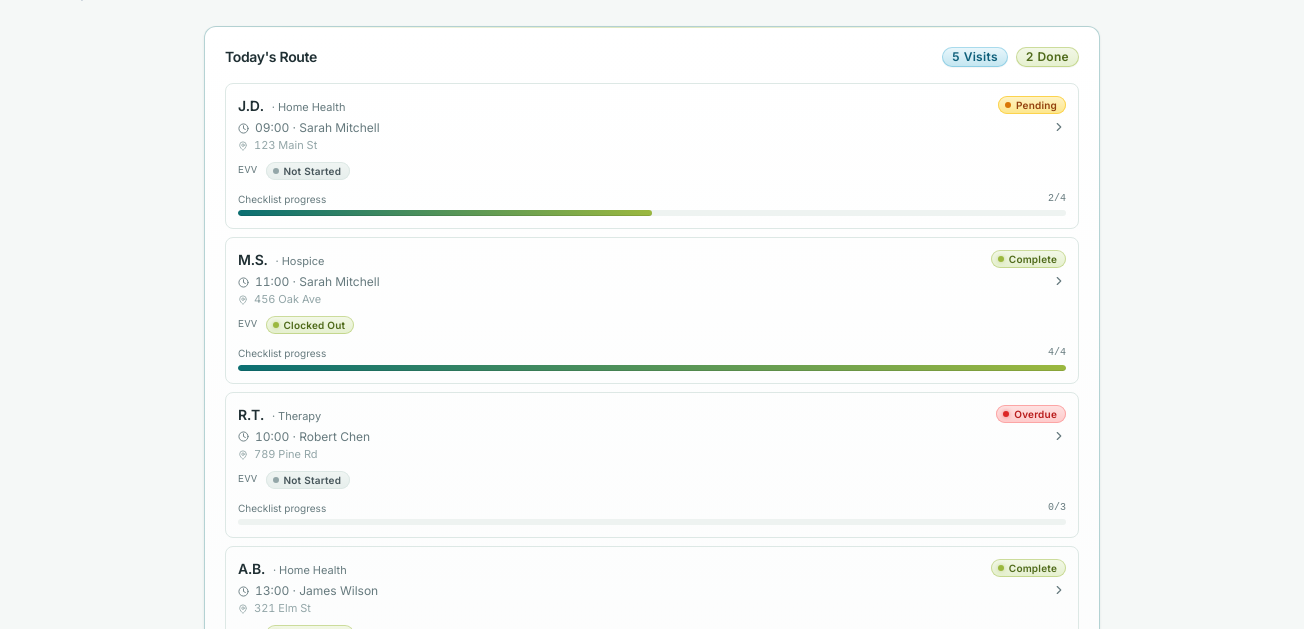
Test case: Fix #3 — Field Assistant EVV validation › allows End Visit (signature modal) once checklist is complete
This screenshot has width=1304, height=629.
Click the text "J.D.": (251, 106) [238,96,264,116]
(page scrolled)
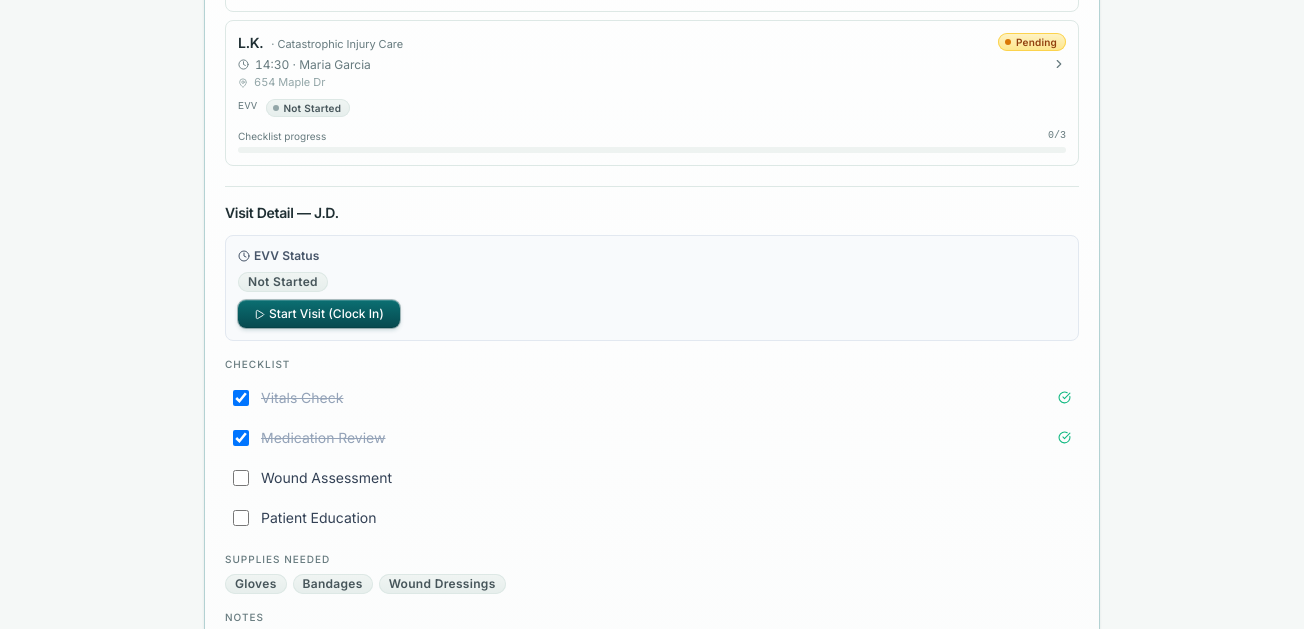
Click the button "Start Visit (Clock In)": (319, 314) [238,300,400,328]
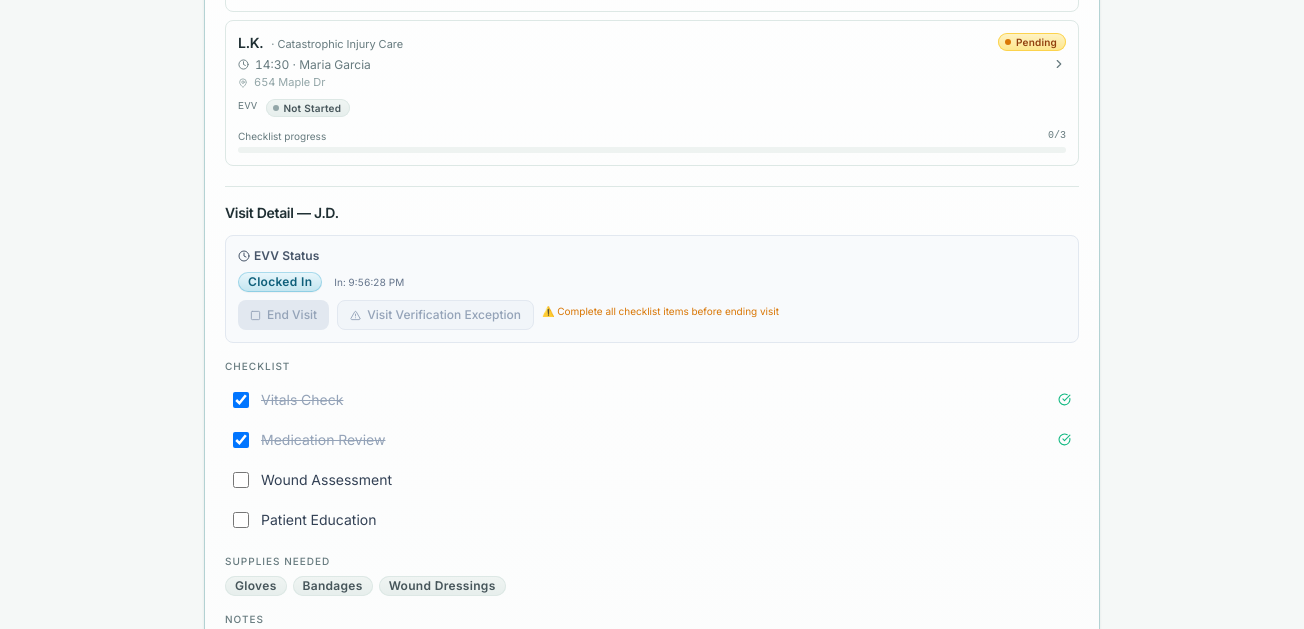
Click the checkbox labelled "Wound Assessment": (241, 480) [233,472,249,488]
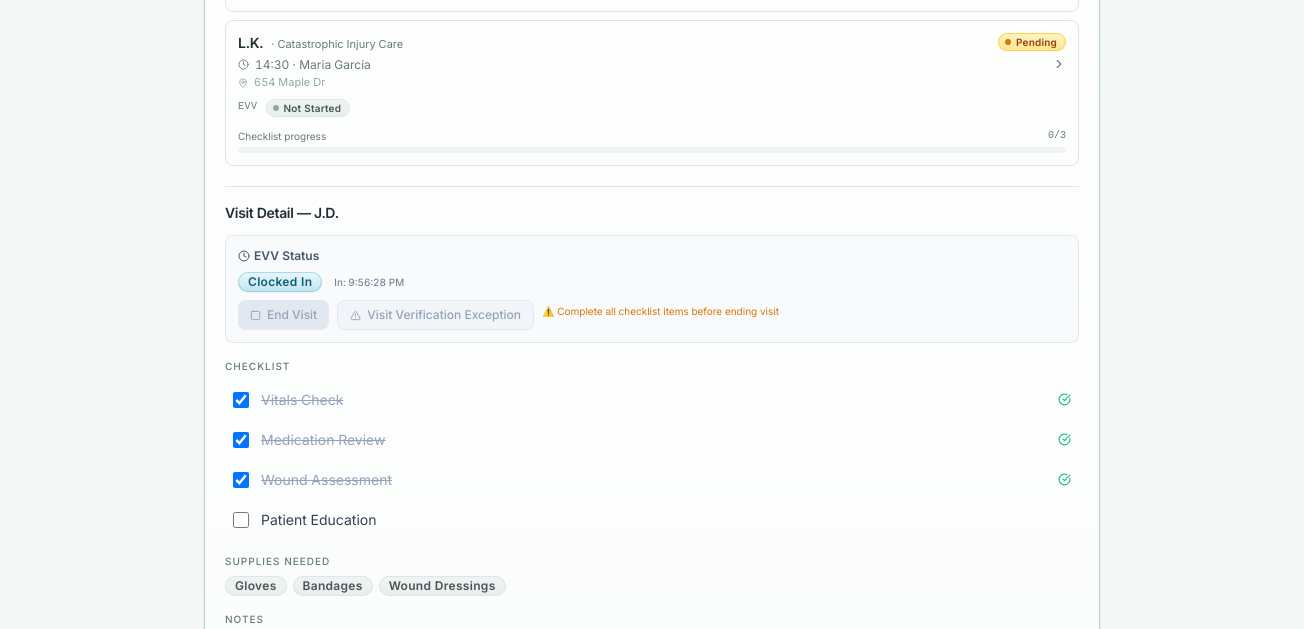
Click the checkbox labelled "Patient Education": (241, 520) [233,512,249,528]
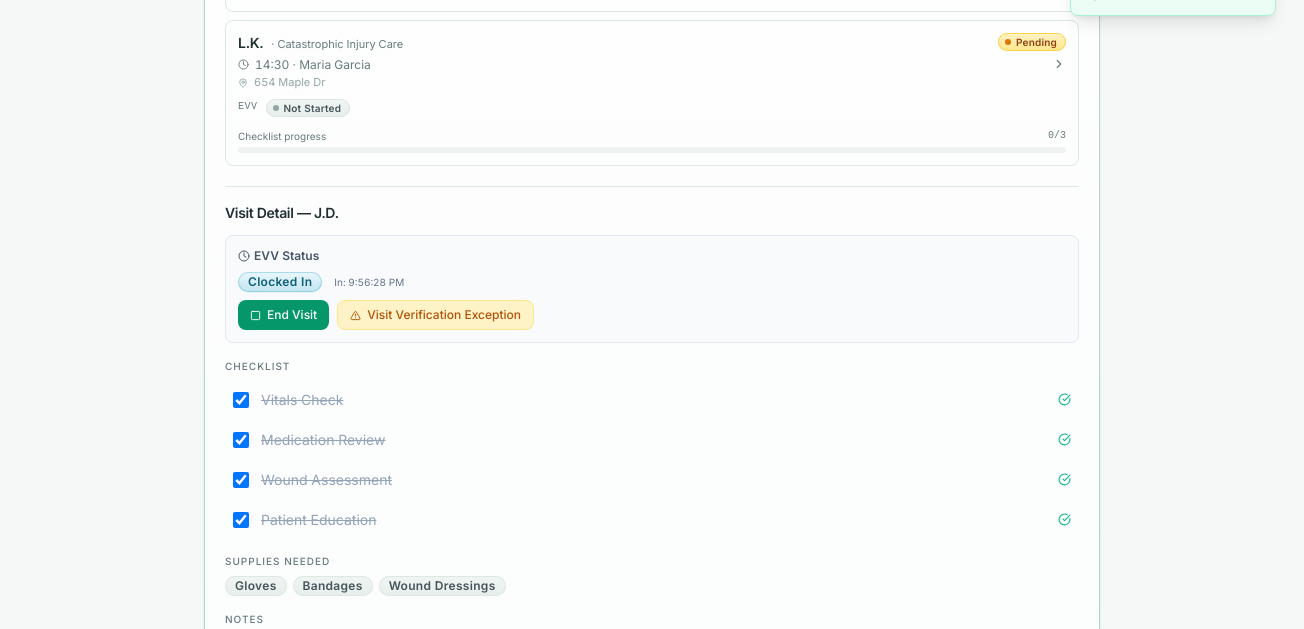
Result: the button "End Visit" is enabled at [238,300,329,330]
